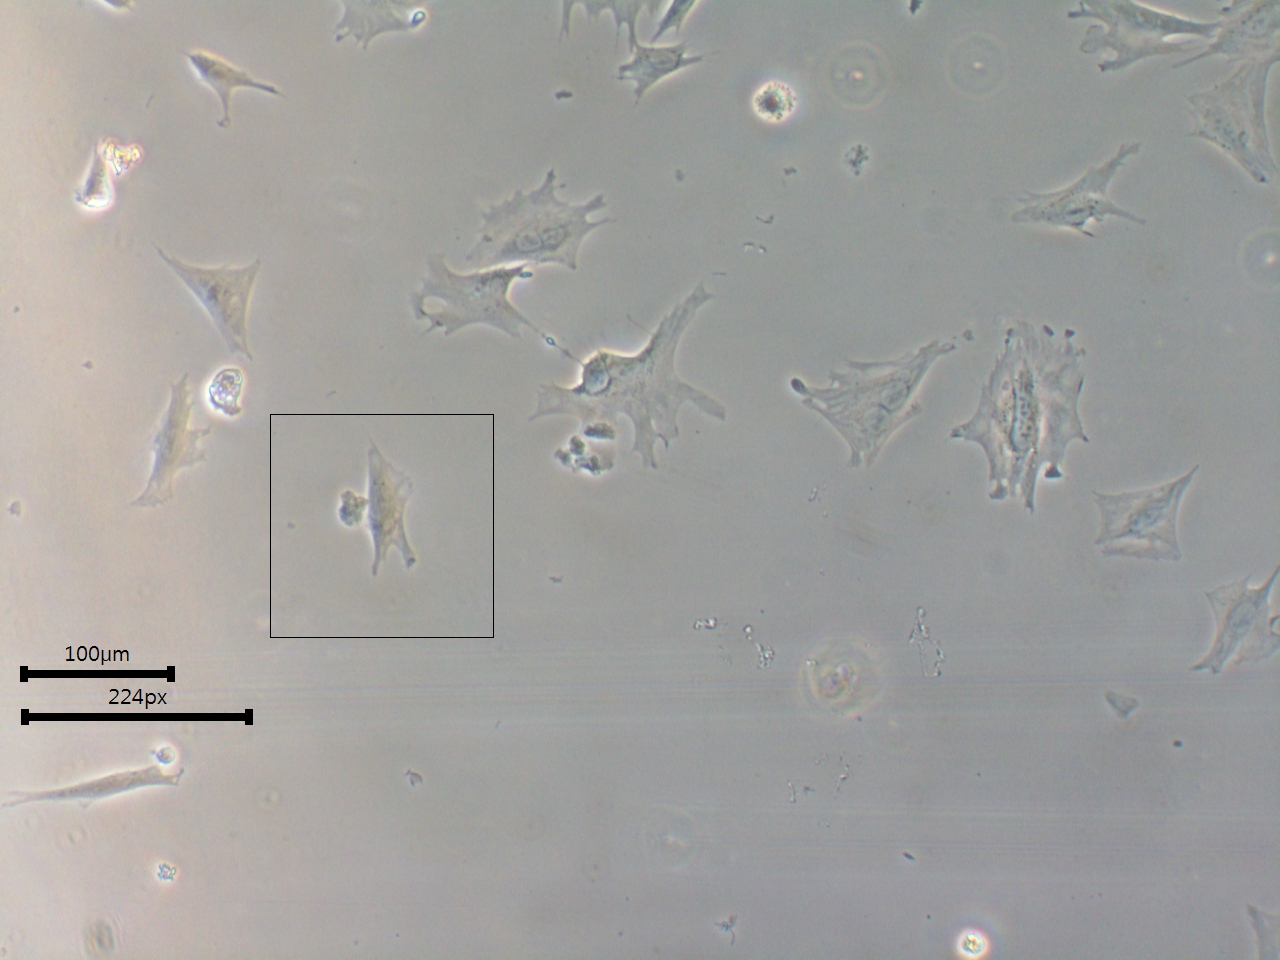dividing: (956, 317, 1097, 514), (792, 340, 955, 478), (469, 167, 612, 277)
medium-polygonal: (147, 244, 260, 365), (130, 367, 204, 531), (364, 436, 424, 588), (1201, 563, 1280, 680)
medium-spread: (1092, 474, 1202, 567)
small-polygonal: (182, 43, 284, 135), (613, 38, 715, 102)
small-round: (752, 78, 805, 134)
